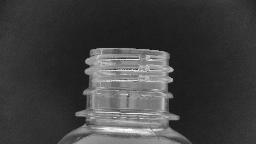No Cap: (72, 44, 184, 124)
